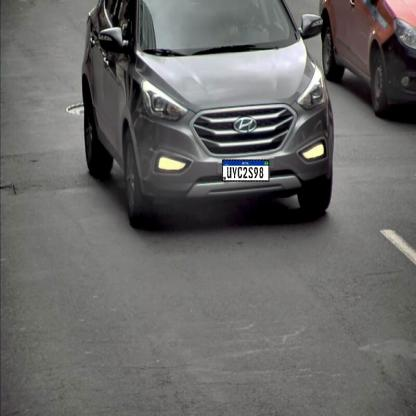PlacaM: (222, 160, 269, 182)
